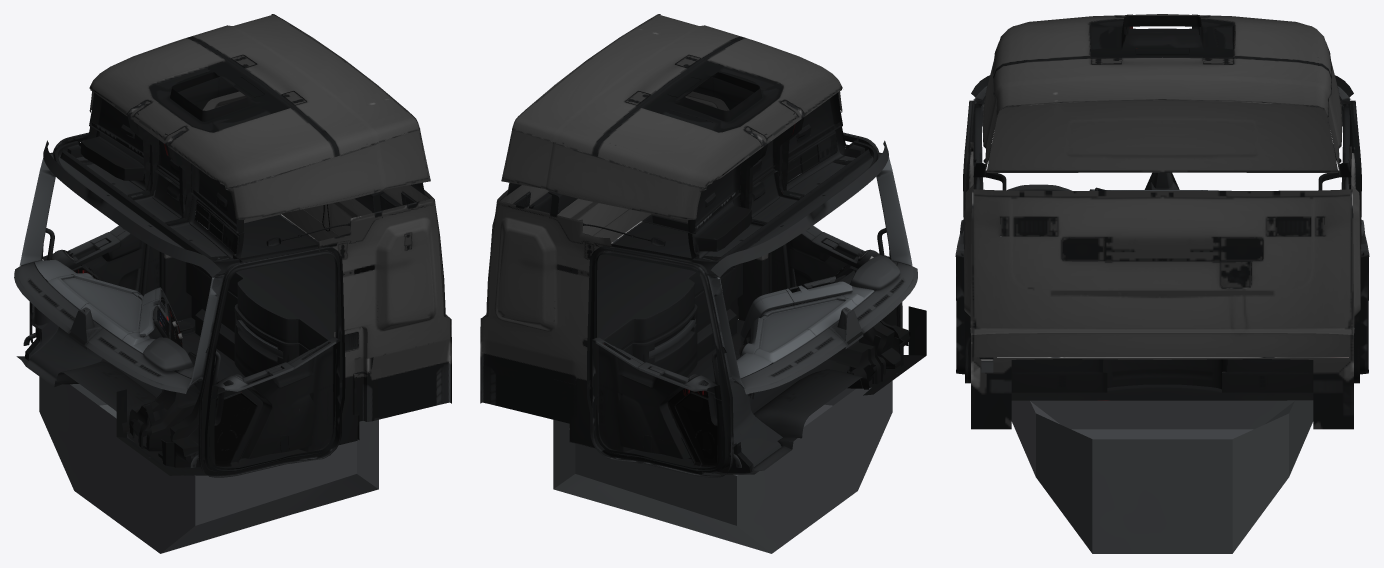
File: Interior.glb
3 renders of one model, left to right at view 1: azimuth 30°, elevation 25°; view 2: azimuth 150°, elevation 25°; view 3: azimuth 270°, elevation 25°, orthographic. The views are drawn at different scales.
Visible parts, largest first — view 1: Interior_Main, Blackfill; view 2: Interior_Main, Blackfill; view 3: Interior_Main, Blackfill.
Boxes of the visible parts, <box> form: Interior_Main: <box>14,14,451,477</box>; Blackfill: <box>39,376,378,553</box>; Interior_Main: <box>480,14,926,477</box>; Blackfill: <box>553,381,892,553</box>; Interior_Main: <box>955,14,1369,429</box>; Blackfill: <box>1011,400,1313,553</box>.
Size of the model in its own units: 2.12 by 2.87 by 2.36.
Materials: 1 (1 with a texture image).
